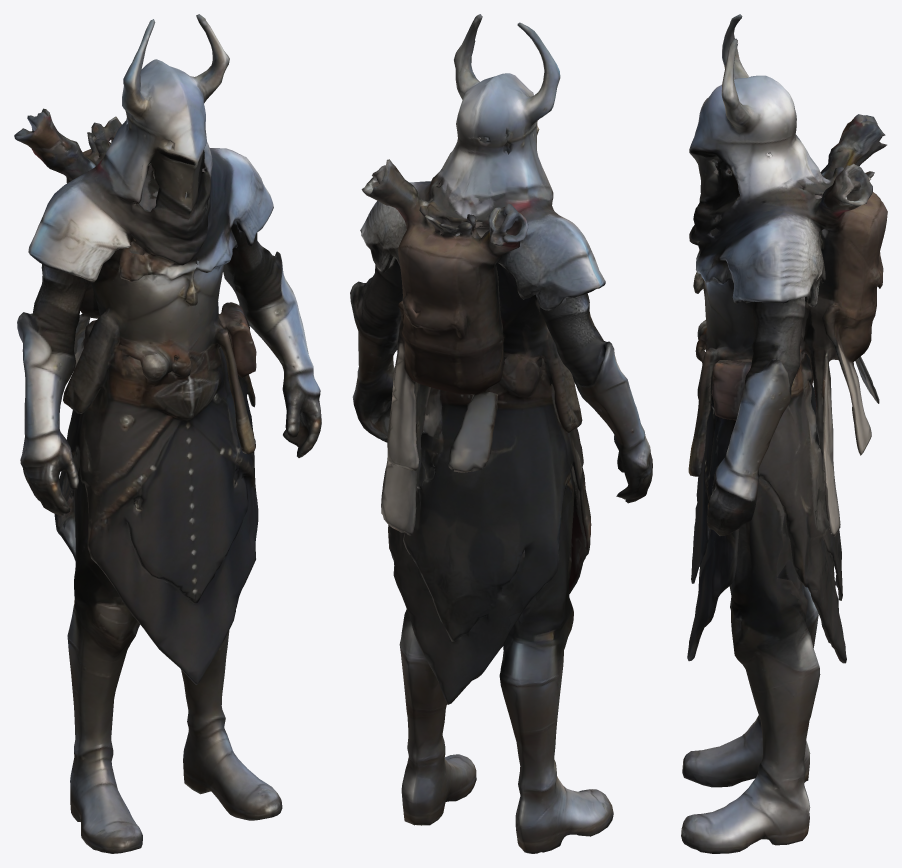
File: player.glb
The picture shows the model from 3 angles, left to right: view 1: azimuth 30°, elevation 25°; view 2: azimuth 150°, elevation 25°; view 3: azimuth 270°, elevation 25°; orthographic projection.
Visible parts, largest first — view 1: Object_4; view 2: Object_4; view 3: Object_4.
Boxes of the visible parts, box(x1,y1,x2,y2) form: Object_4: box(14, 14, 321, 853); Object_4: box(350, 14, 652, 853); Object_4: box(681, 14, 887, 853).
Bounding box in the file's own units: 0.7679 × 2.01 × 0.4781.
1 material, 1 textured.
